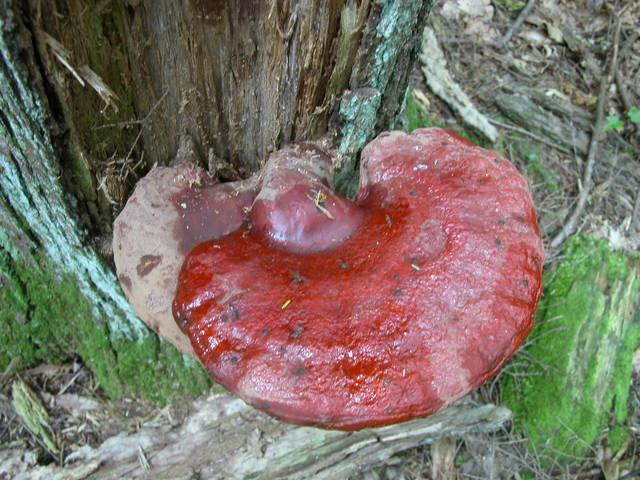poisonous_mushroom: (121, 124, 543, 423)
